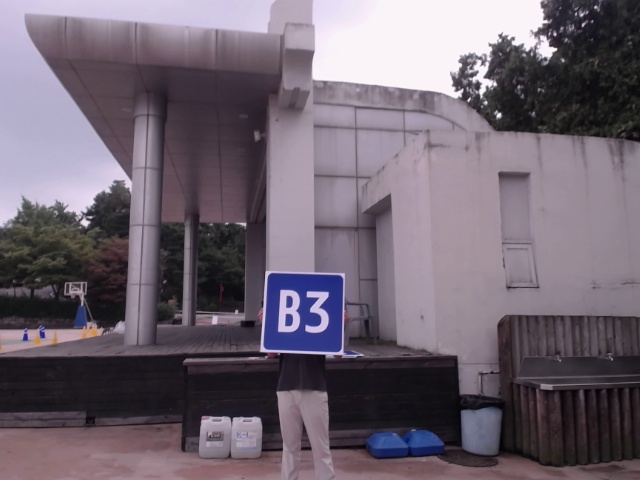delivery_b3: (262, 272, 344, 355)
